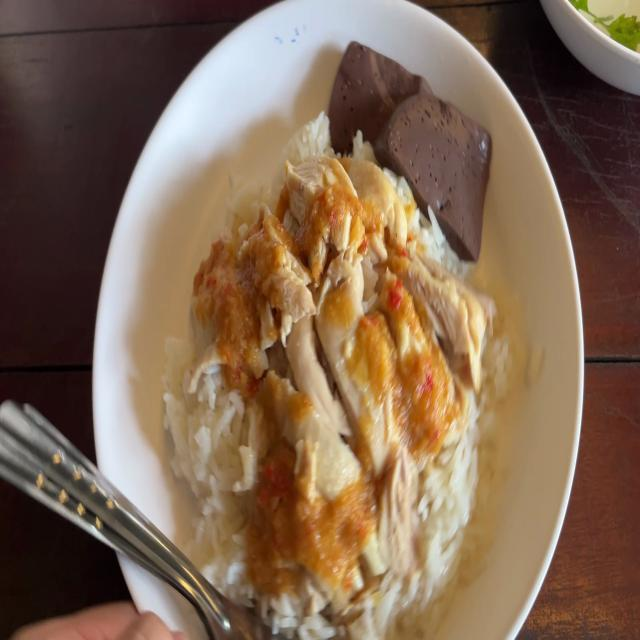boiled_chicken: (212, 169, 435, 524)
boiled_chicken_blood_jelly: (380, 87, 491, 255), (328, 39, 431, 165)
chicken_rice: (154, 37, 519, 635)
